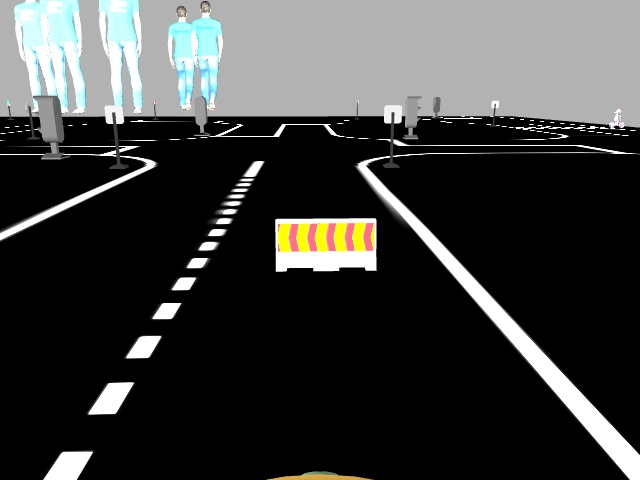ClosedRoadStand: (273, 223, 377, 268)
